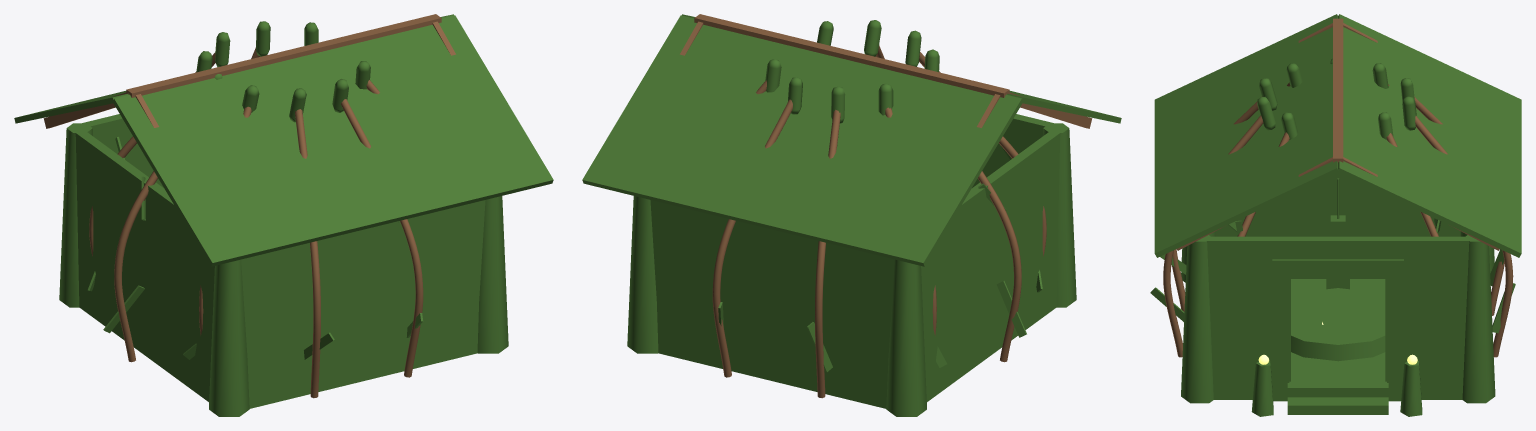
File: shrine-reed-crown.glb
The picture shows the model from 3 angles, left to right: view 1: azimuth 30°, elevation 25°; view 2: azimuth 150°, elevation 25°; view 3: azimuth 270°, elevation 25°; orthographic projection. The views are drawn at different scales.
Parts seen in each view (by area): view 1: Mesh_RoofA, Mesh_ShrineRoom_WallRight, Mesh_ShrineRoom_WallBack, Mesh_CornerPillar_2, Mesh_CornerPillar_0, Mesh_RoofRidgeBeam, Mesh_CornerPillar_3, Mesh_ReedStalk_5, Mesh_ReedStalk_6, Mesh_ReedStalk_8, Mesh_ShrineRoom_WallLeft, Mesh_RoofB (+1 smaller); view 2: Mesh_RoofB, Mesh_ShrineRoom_WallLeft, Mesh_ShrineRoom_WallBack, Mesh_CornerPillar_3, Mesh_CornerPillar_1, Mesh_RoofRidgeBeam, Mesh_CornerPillar_2, Mesh_ReedStalk_2, Mesh_ReedStalk_1, Mesh_ShrineRoom_WallRight, Mesh_ReedStalk_8, Mesh_RoofA (+2 smaller); view 3: Mesh_RoofB, Mesh_RoofA, Mesh_ShrineRoom_WallFront_R, Mesh_ShrineRoom_WallFront_L, Mesh_ShrineRoom_WallBack, Mesh_SpringBasin, Mesh_CornerPillar_1, Mesh_CornerPillar_0, Mesh_ShrineRoom_Floor, Mesh_DoorLintel, Mesh_ShrineRoom_WallFront_Lintel, Mesh_DoorPillarL (+16 smaller).
Boxes of the visible parts, left/top/right/bottom form: Mesh_RoofA: left=113, top=15, right=553, bottom=266; Mesh_ShrineRoom_WallRight: left=241, top=200, right=485, bottom=408; Mesh_ShrineRoom_WallBack: left=75, top=132, right=214, bottom=401; Mesh_CornerPillar_2: left=209, top=259, right=249, bottom=416; Mesh_CornerPillar_0: left=477, top=196, right=508, bottom=353; Mesh_RoofRidgeBeam: left=126, top=14, right=441, bottom=97; Mesh_CornerPillar_3: left=59, top=123, right=92, bottom=307; Mesh_ReedStalk_5: left=341, top=99, right=423, bottom=377; Mesh_ReedStalk_6: left=295, top=109, right=320, bottom=398; Mesh_ReedStalk_8: left=114, top=171, right=158, bottom=362; Mesh_ShrineRoom_WallLeft: left=72, top=114, right=163, bottom=187; Mesh_RoofB: left=14, top=14, right=453, bottom=123; Mesh_RoofB: left=582, top=15, right=1022, bottom=266; Mesh_ShrineRoom_WallLeft: left=650, top=200, right=894, bottom=408; Mesh_ShrineRoom_WallBack: left=921, top=132, right=1060, bottom=401; Mesh_CornerPillar_3: left=886, top=259, right=926, bottom=416; Mesh_CornerPillar_1: left=627, top=196, right=658, bottom=353; Mesh_RoofRidgeBeam: left=694, top=14, right=1009, bottom=97; Mesh_CornerPillar_2: left=1043, top=123, right=1076, bottom=307; Mesh_ReedStalk_2: left=712, top=99, right=792, bottom=377; Mesh_ReedStalk_1: left=815, top=109, right=840, bottom=398; Mesh_ShrineRoom_WallRight: left=972, top=114, right=1063, bottom=187; Mesh_ReedStalk_8: left=977, top=171, right=1021, bottom=362; Mesh_RoofA: left=682, top=14, right=1121, bottom=123; Mesh_RoofB: left=1337, top=14, right=1521, bottom=257; Mesh_RoofA: left=1154, top=14, right=1339, bottom=257; Mesh_ShrineRoom_WallFront_R: left=1197, top=236, right=1290, bottom=399; Mesh_ShrineRoom_WallFront_L: left=1385, top=236, right=1478, bottom=399; Mesh_ShrineRoom_WallBack: left=1215, top=173, right=1460, bottom=236; Mesh_SpringBasin: left=1291, top=288, right=1385, bottom=361; Mesh_CornerPillar_1: left=1462, top=235, right=1495, bottom=403; Mesh_CornerPillar_0: left=1181, top=235, right=1213, bottom=403; Mesh_ShrineRoom_Floor: left=1291, top=279, right=1385, bottom=379; Mesh_DoorLintel: left=1272, top=259, right=1403, bottom=278; Mesh_ShrineRoom_WallFront_Lintel: left=1289, top=236, right=1386, bottom=259; Mesh_DoorPillarL: left=1272, top=279, right=1289, bottom=401.
Size of the model in its own units: 5.58 by 4.13 by 5.5.
3 materials, 3 textured.
